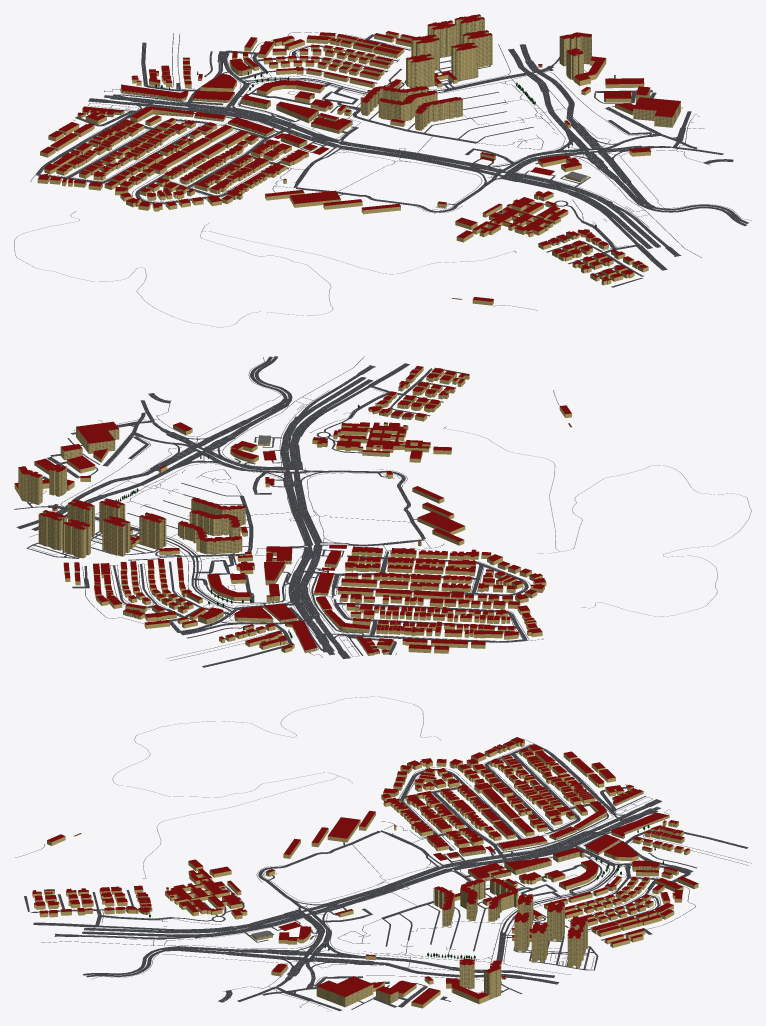
Rendered from osm3d.glb.
3 renders of one model, top to bottom at view 1: azimuth 30°, elevation 25°; view 2: azimuth 150°, elevation 25°; view 3: azimuth 270°, elevation 25°, orthographic.
Parts seen in each view (by area): view 1: Plaster002, RoofingTiles010, ASPHALT, Windows, Concrete034, STEEL; view 2: Plaster002, RoofingTiles010, ASPHALT, Windows, Concrete034, STEEL; view 3: RoofingTiles010, Plaster002, ASPHALT, Windows, Concrete034, STEEL.
Part boxes in pixels (box(x1,y1,x2,y2)): Plaster002: box(37, 16, 680, 305); RoofingTiles010: box(38, 14, 680, 301); ASPHALT: box(30, 32, 748, 287); Windows: box(78, 16, 679, 244); Concrete034: box(40, 60, 751, 310); STEEL: box(14, 211, 513, 327); Plaster002: box(14, 367, 571, 655); RoofingTiles010: box(14, 365, 571, 653); ASPHALT: box(14, 356, 543, 667); Windows: box(21, 408, 413, 655); Concrete034: box(32, 357, 560, 656); STEEL: box(444, 428, 751, 616); RoofingTiles010: box(32, 737, 698, 1004); Plaster002: box(32, 740, 698, 1008); ASPHALT: box(24, 738, 751, 1011); Windows: box(136, 787, 669, 1006); Concrete034: box(15, 754, 652, 992); STEEL: box(112, 696, 440, 878).
Bounding box in the file's own units: 1320 × 57.53 × 1307.
Materials: 20 (19 with a texture image).
